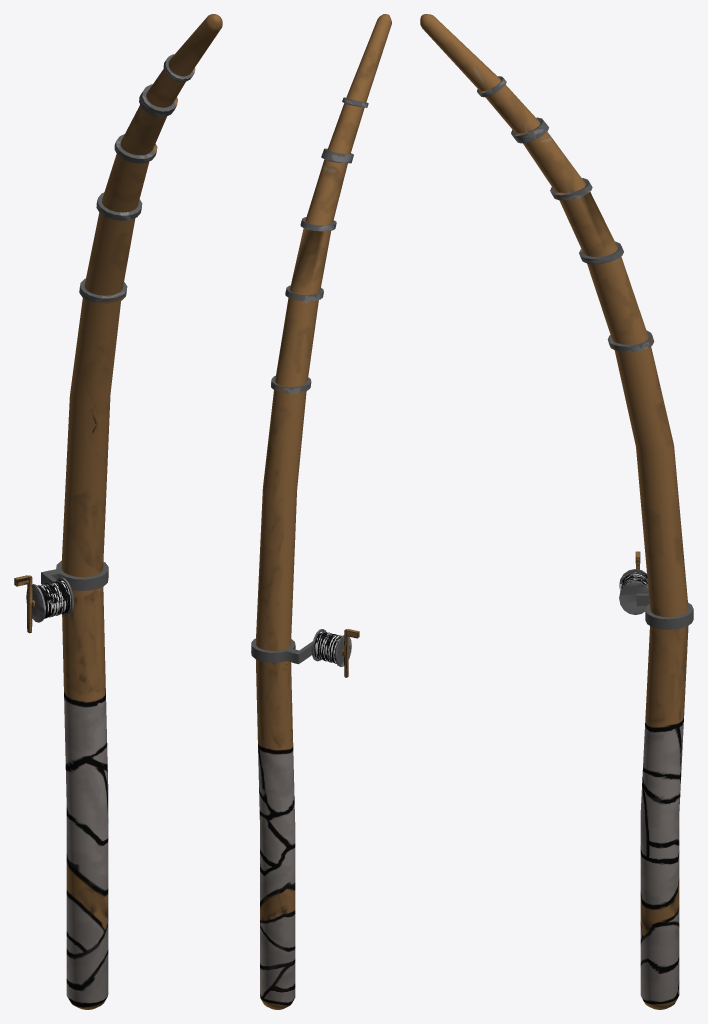
The model's file is VaraDePesca.fbx.
3 renders of one model, left to right at view 1: azimuth 30°, elevation 25°; view 2: azimuth 150°, elevation 25°; view 3: azimuth 270°, elevation 25°, orthographic. The views are drawn at different scales.
Visible parts, largest first — view 1: Vara; view 2: Vara; view 3: Vara.
Part boxes in pixels (x1,y1,x2,y2): Vara: (14, 14, 222, 1009); Vara: (251, 14, 391, 1009); Vara: (420, 14, 693, 1009).
Size of the model in its own units: 14.47 by 140 by 35.04.
Materials: 1 (1 with a texture image).
